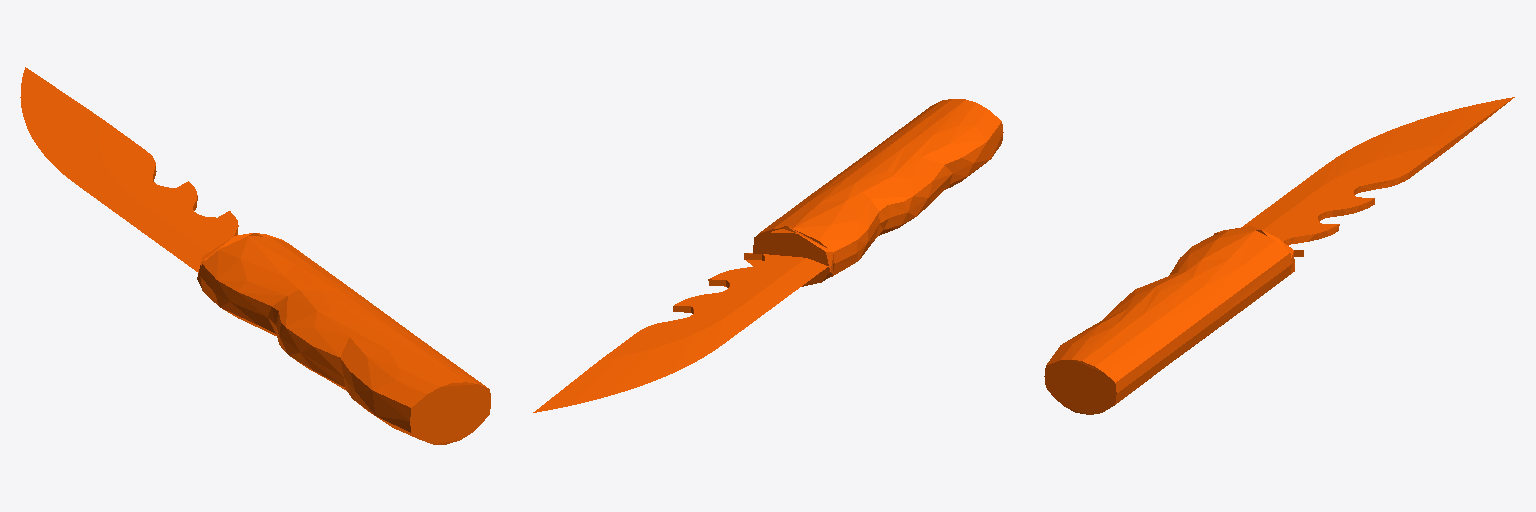
robot.urdf — Knife_394:
<?xml version="1.0" ?>
<robot name="Knife_394">
   <material name="obj_color">
      <color rgba="1.0 0.423529411765 0.0392156862745 1.0"/>
   </material>
   <link name="top">
      <inertial>
         <origin rpy="1.203218934636584e-05 0.0001650355915955228 0.0001704821750326249" xyz="-0.0006950455549214907 -0.04658371230207299 -3.53617555040512e-05"/>
         <mass value="0.09698767178791139"/>
         <inertia ixx="0.0001650173961632306" ixy="1.669782555006824e-06" ixz="1.274950481155724e-08" iyy="1.205041452874284e-05" iyz="-2.999963010350258e-09" izz="0.00017048214528254"/>
      </inertial>
      <visual>
         <origin rpy="0 0 0" xyz="0 0 0"/>
         <geometry>
            <mesh filename="top_watertight_tiny.stl" scale="1 1 1"/>
         </geometry>
         <material name="obj_color"/>
      </visual>
      <collision>
         <origin rpy="0 0 0" xyz="0 0 0"/>
         <geometry>
            <mesh filename="top_watertight_tiny.obj" scale="1 1 1"/>
         </geometry>
      </collision>
   </link>
   <link name="bottom">
      <inertial>
         <origin rpy="6.871687922790215e-07 1.608221340286949e-05 1.675824499263229e-05" xyz="0.002696031764585307 0.08987638395568963 0.000545"/>
         <mass value="0.0100841852113247"/>
         <inertia ixx="1.606133654916986e-05" ixy="-5.66537069408769e-07" ixz="-0" iyy="7.080456459786578e-07" iyz="-1.013296250377459e-22" izz="1.675824499263229e-05"/>
      </inertial>
      <visual>
         <origin rpy="0 0 0" xyz="0 0 0"/>
         <geometry>
            <mesh filename="bottom_watertight_tiny.stl" scale="1 1 1"/>
         </geometry>
         <material name="obj_color"/>
      </visual>
      <collision>
         <origin rpy="0 0 0" xyz="0 0 0"/>
         <geometry>
            <mesh filename="bottom_watertight_tiny.obj" scale="1 1 1"/>
         </geometry>
      </collision>
   </link>
   <joint name="rotation" type="revolute">
      <origin xyz="0 0 0"/>
      <axis xyz="0 0 -1"/>
      <parent link="bottom"/>
      <child link="top"/>
      <dynamics damping="1.0" friction="1.0"/>
      <limit effort="0.1" velocity="0.1" lower="0" upper="0.001"/>
   </joint>
</robot>

--- Render facts (derived) ---
3 views of the same robot in one strip: view 1: azimuth 30°, elevation 25°; view 2: azimuth 150°, elevation 25°; view 3: azimuth 330°, elevation 25° (orthographic).
Model Knife_394 with 2 links and 1 joints (1 revolute), rooted at bottom, posed all joints at 0.
Visible links, largest first — view 1: top, bottom; view 2: top, bottom; view 3: top, bottom.
Boxes of the visible links, bbox=[...] form: top: bbox=[197, 233, 490, 444]; bottom: bbox=[20, 67, 238, 272]; top: bbox=[753, 99, 1003, 286]; bottom: bbox=[533, 253, 828, 412]; top: bbox=[1044, 226, 1294, 414]; bottom: bbox=[1241, 97, 1514, 256].
Bounding box of the posed robot: 0.0388 × 0.3208 × 0.0256 m (x, y, z).
Meshes: 2 distinct files referenced, 2 mesh visuals loaded (2 binary STL).